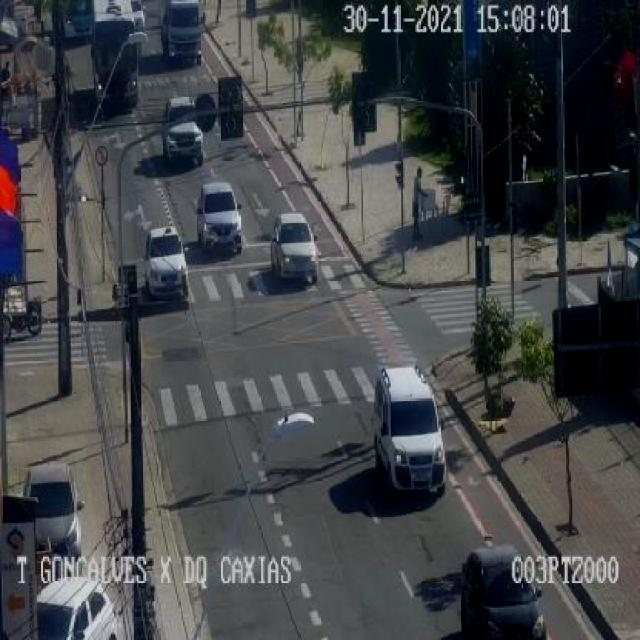Bus: (88, 0, 139, 110), (51, 0, 93, 41)
Car: (376, 364, 447, 496), (460, 545, 548, 640), (23, 461, 85, 556), (36, 578, 121, 640), (146, 224, 192, 302), (272, 213, 320, 285), (196, 182, 244, 254), (164, 95, 204, 166)
Cycle: (0, 300, 46, 338)
Truck: (160, 0, 206, 68)
